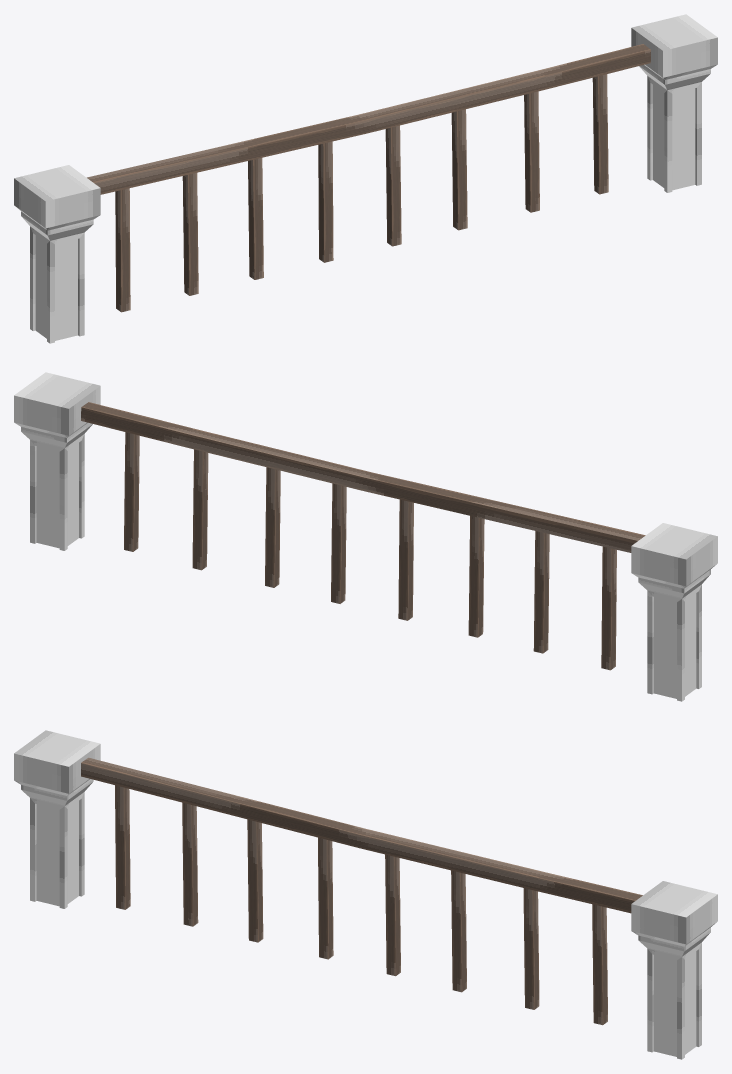
The model's file is SM_GeneralS_Railings_A.fbx.
3 renders of one model, top to bottom at view 1: azimuth 30°, elevation 25°; view 2: azimuth 150°, elevation 25°; view 3: azimuth 330°, elevation 25°, orthographic.
Visible parts, largest first — view 1: SM_GeneralS_Railings_A_LOD0; view 2: SM_GeneralS_Railings_A_LOD0; view 3: SM_GeneralS_Railings_A_LOD0.
Part boxes in pixels (left/top/right/bottom): SM_GeneralS_Railings_A_LOD0: left=14, top=14, right=717, bottom=343; SM_GeneralS_Railings_A_LOD0: left=14, top=372, right=717, bottom=701; SM_GeneralS_Railings_A_LOD0: left=14, top=730, right=717, bottom=1059.
Bounding box in the file's own units: 556 × 45.48 × 118.
